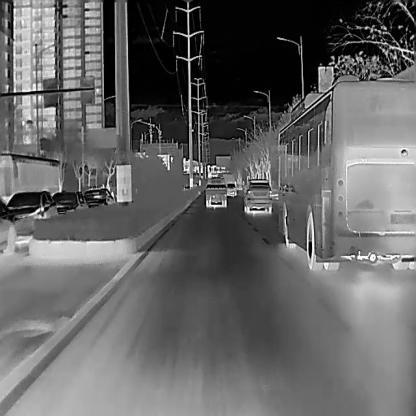car: (269, 74, 415, 270), (4, 189, 58, 247), (0, 152, 60, 201), (51, 189, 88, 214), (243, 179, 271, 212), (206, 177, 227, 207), (83, 187, 116, 206), (226, 183, 236, 195)
